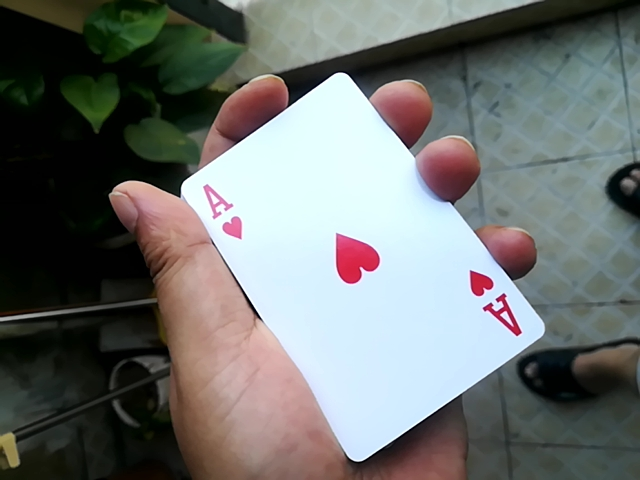hx a: (163, 58, 541, 467)
